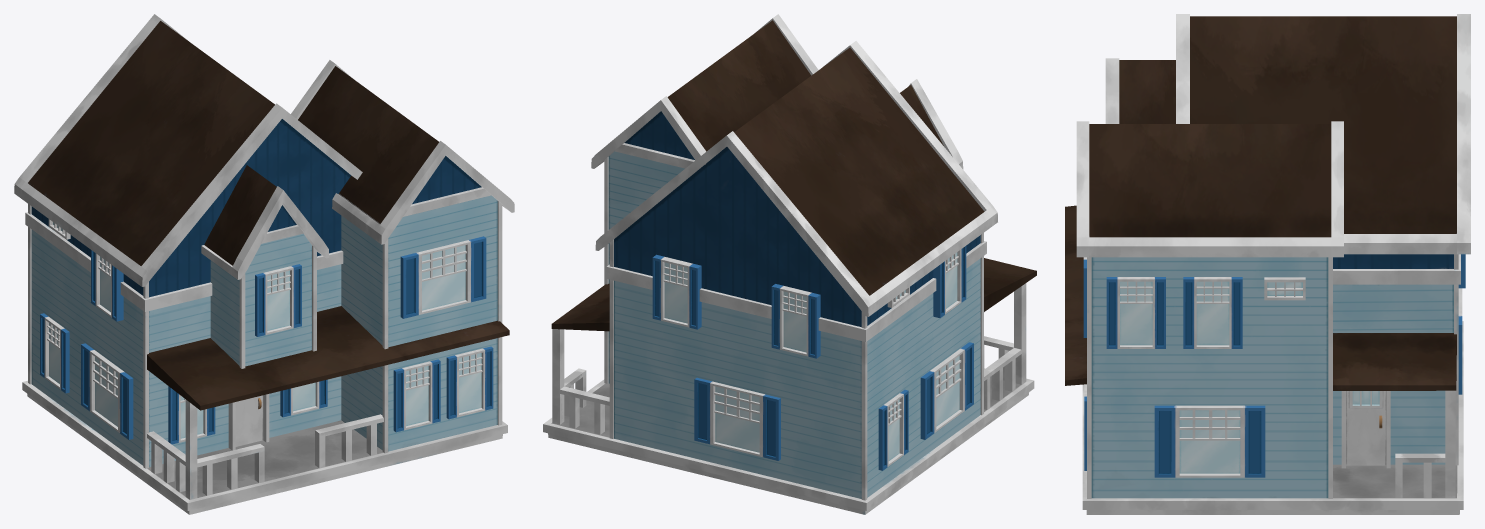
The model's file is house_blue.glb.
The picture shows the model from 3 angles, left to right: view 1: azimuth 30°, elevation 25°; view 2: azimuth 150°, elevation 25°; view 3: azimuth 270°, elevation 25°; orthographic projection. The views are drawn at different scales.
Parts seen in each view (by area): view 1: House1Body, House1Windows, House1Dormer, House1Porches, House1SideBeams, House1Beams, House1Doors; view 2: House1Body, House1Windows, House1Porches, House1Beams, House1SideBeams, House1Dormer; view 3: House1Body, House1Windows, House1Dormer, House1Doors, House1SideBeams, House1Porches, House1Beams.
Part boxes in pixels (x1,y1,x2,y2): House1Body: (14,14,514,514); House1Windows: (40,219,493,444); House1Dormer: (201,165,329,366); House1Porches: (147,399,383,499); House1SideBeams: (28,201,502,468); House1Beams: (25,187,491,311); House1Doors: (228,394,269,450); House1Body: (543,14,1036,514); House1Windows: (652,246,973,470); House1Porches: (552,283,1026,434); House1Beams: (606,143,986,341); House1SideBeams: (604,157,983,500); House1Dormer: (900,79,963,169); House1Body: (1065,14,1470,514); House1Windows: (1083,254,1465,477); House1Dormer: (1105,58,1175,123); House1Doors: (1341,391,1390,468); House1SideBeams: (1087,254,1458,498); House1Porches: (1395,390,1455,497); House1Beams: (1333,254,1460,284).
Bounding box in the file's own units: 569 × 573 × 528.
Materials: 1 (1 with a texture image).
